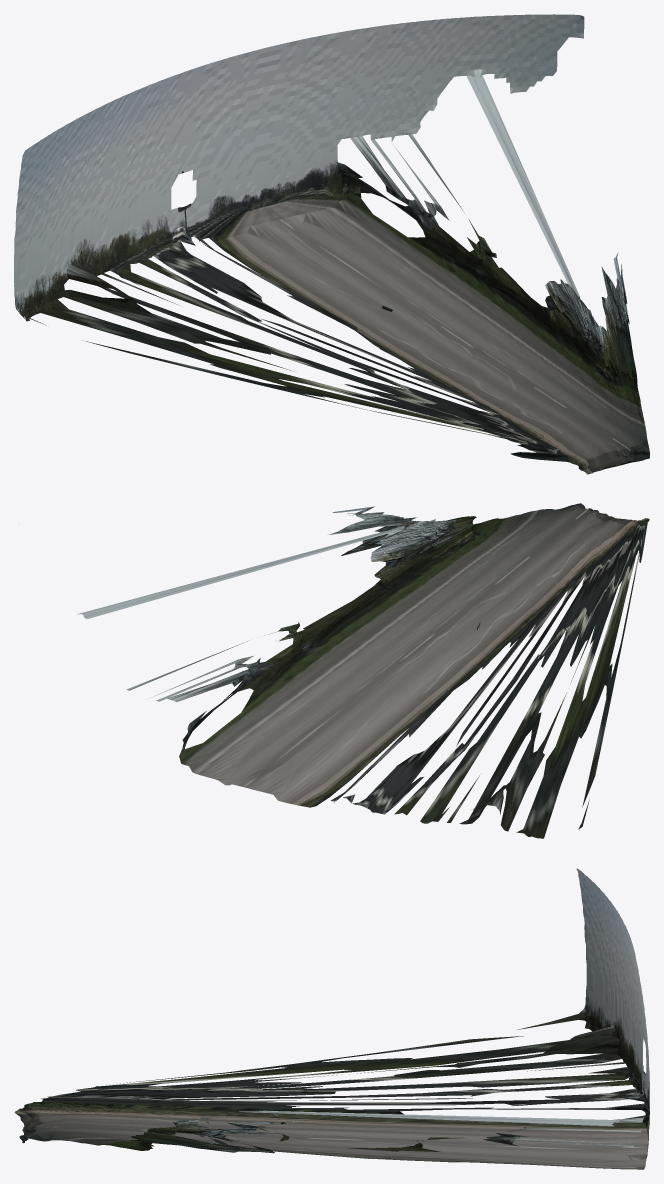
The picture shows the model from 3 angles, top to bottom: view 1: azimuth 30°, elevation 25°; view 2: azimuth 150°, elevation 25°; view 3: azimuth 270°, elevation 25°; orthographic projection. The views are drawn at different scales.
Visible parts, largest first — view 1: defaultobject; view 2: defaultobject; view 3: defaultobject.
Part boxes in pixels (bbox=[...]): defaultobject: bbox=[14, 14, 649, 474]; defaultobject: bbox=[77, 503, 649, 838]; defaultobject: bbox=[14, 868, 649, 1169].
Size of the model in its own units: 40.94 by 13.02 by 44.77.
Materials: 1 (1 with a texture image).
